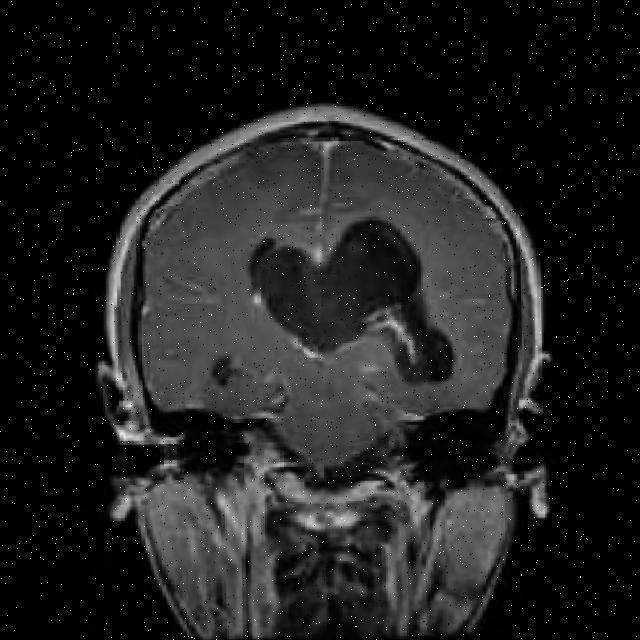EMCI: (332, 203, 471, 408)
